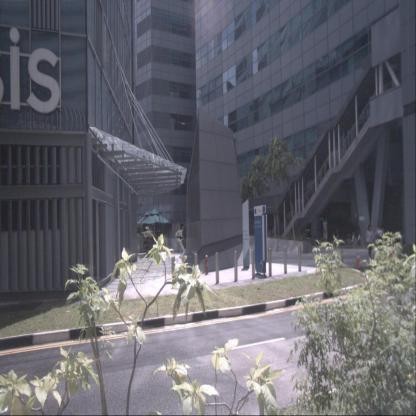human-pedestrian-adult: (374, 221, 384, 260), (366, 224, 374, 260)
movable_object-trafficcone: (354, 247, 363, 268), (340, 248, 346, 268)
